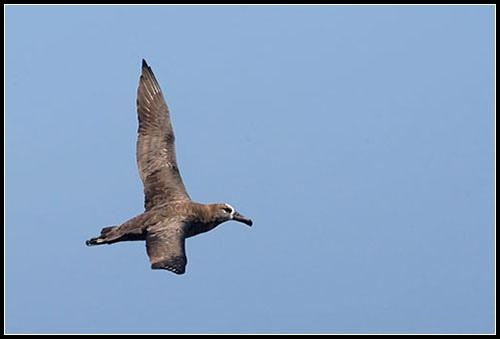bird: (83, 55, 253, 274)
